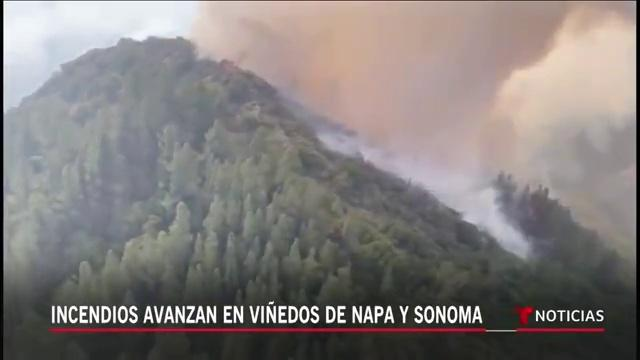smoke: (313, 5, 588, 124)
